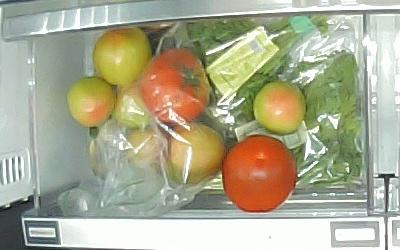tomato: (223, 134, 296, 212), (92, 27, 153, 84), (254, 81, 306, 134), (68, 77, 114, 127)
tomato_vinyl: (141, 48, 209, 125), (171, 123, 226, 184), (126, 128, 170, 174), (113, 84, 157, 130)
